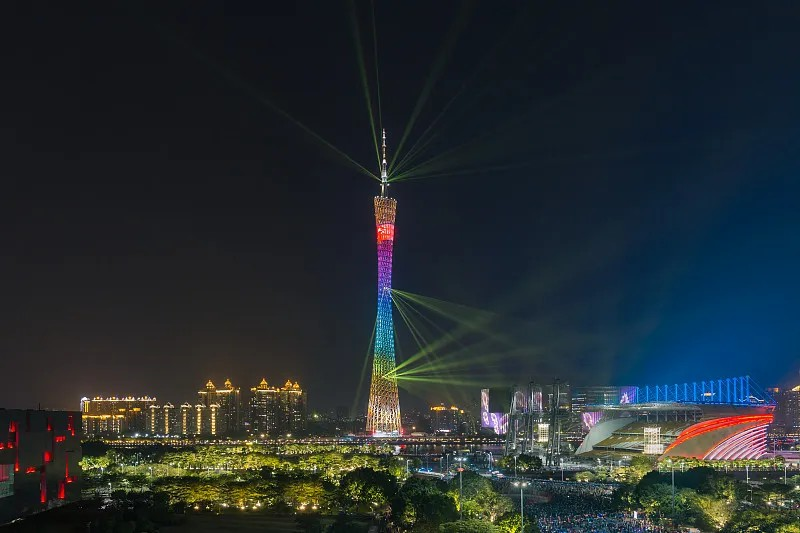Canton: (364, 126, 408, 438)
